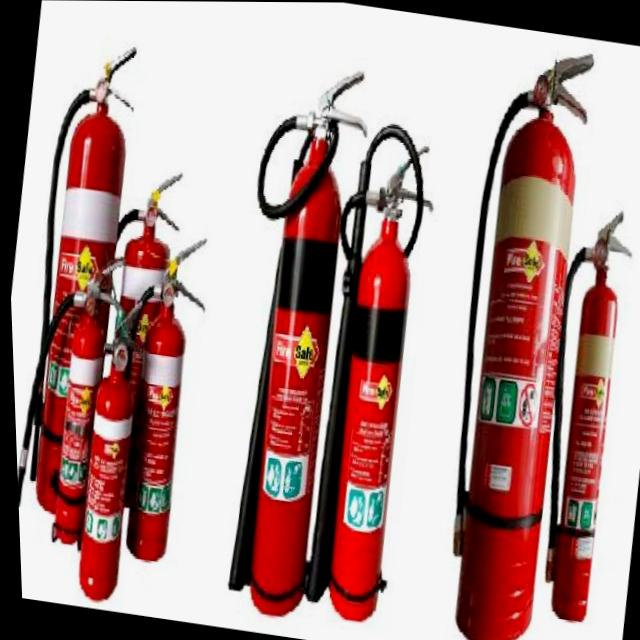FireExtinguisher: (408, 34, 616, 640), (189, 46, 391, 625), (277, 112, 456, 628), (1, 34, 156, 524), (509, 187, 640, 629), (49, 152, 198, 514), (81, 215, 221, 570), (7, 238, 140, 557), (49, 283, 170, 612)
